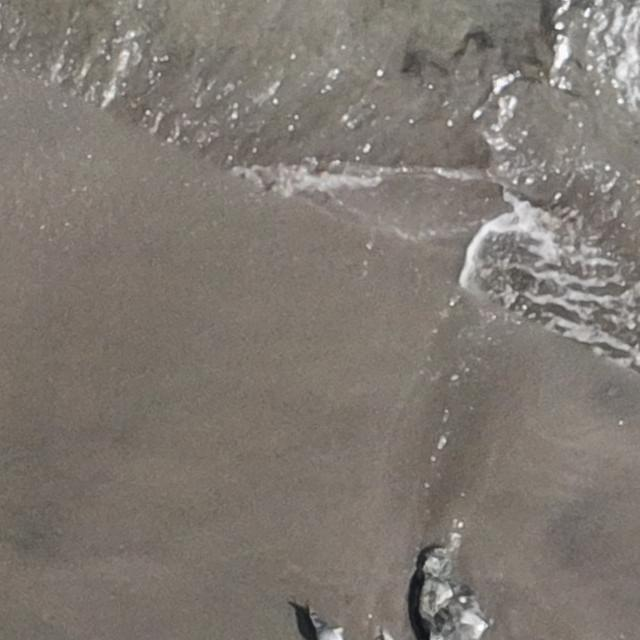umineko: (316, 623, 342, 640)
